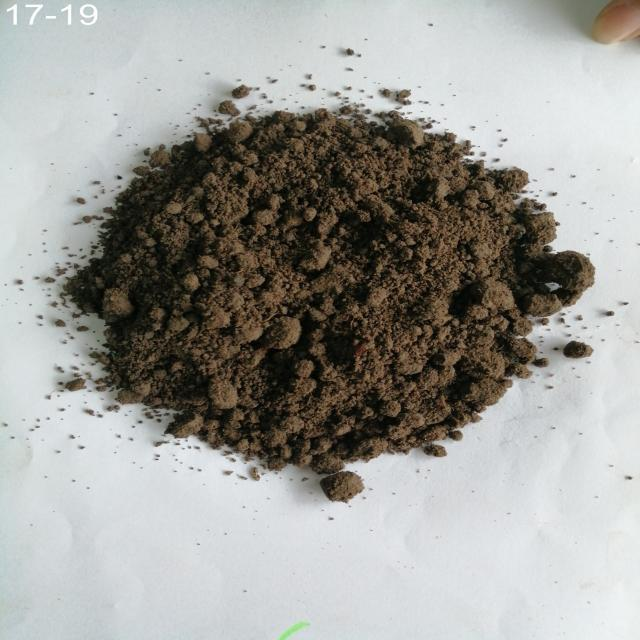soil: (168, 156, 492, 406)
